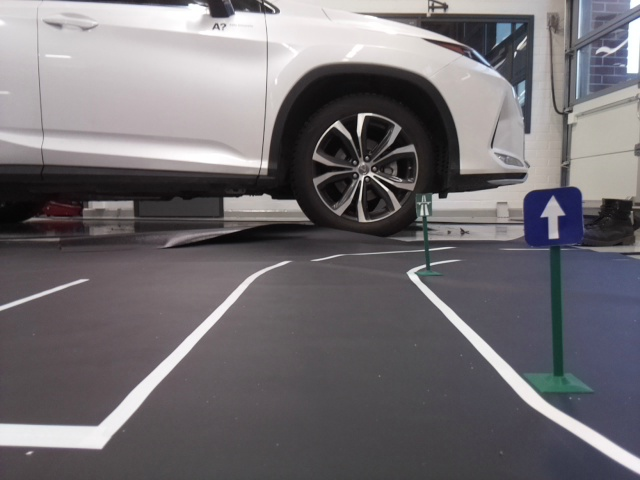HighwayEntrance: (413, 194, 432, 216)
OneWay: (521, 192, 583, 244)
